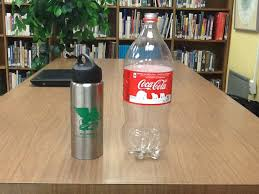bottle: (122, 6, 175, 163), (67, 51, 107, 161)
